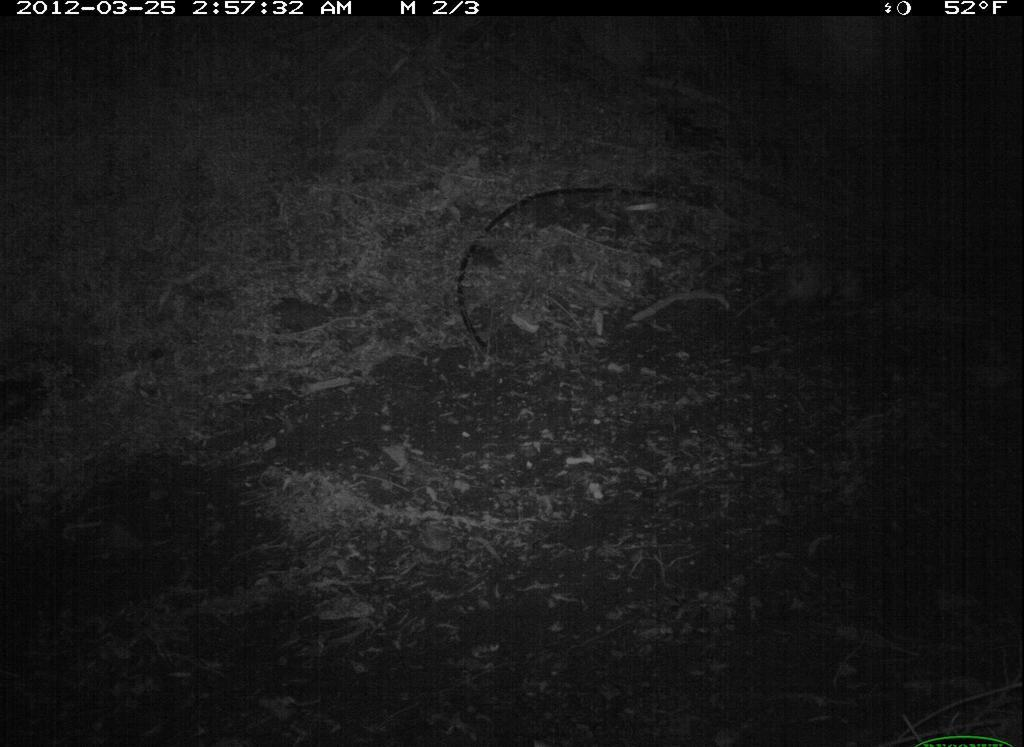opossum: (715, 240, 888, 336)
